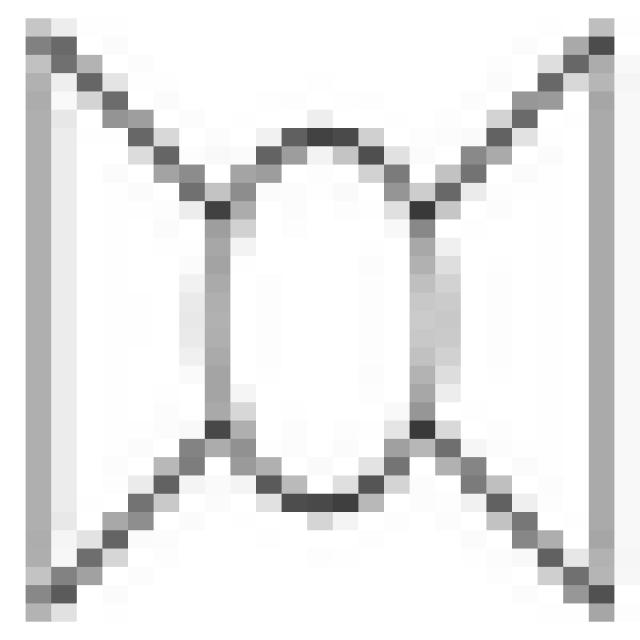ball valve: (45, 28, 623, 616)
